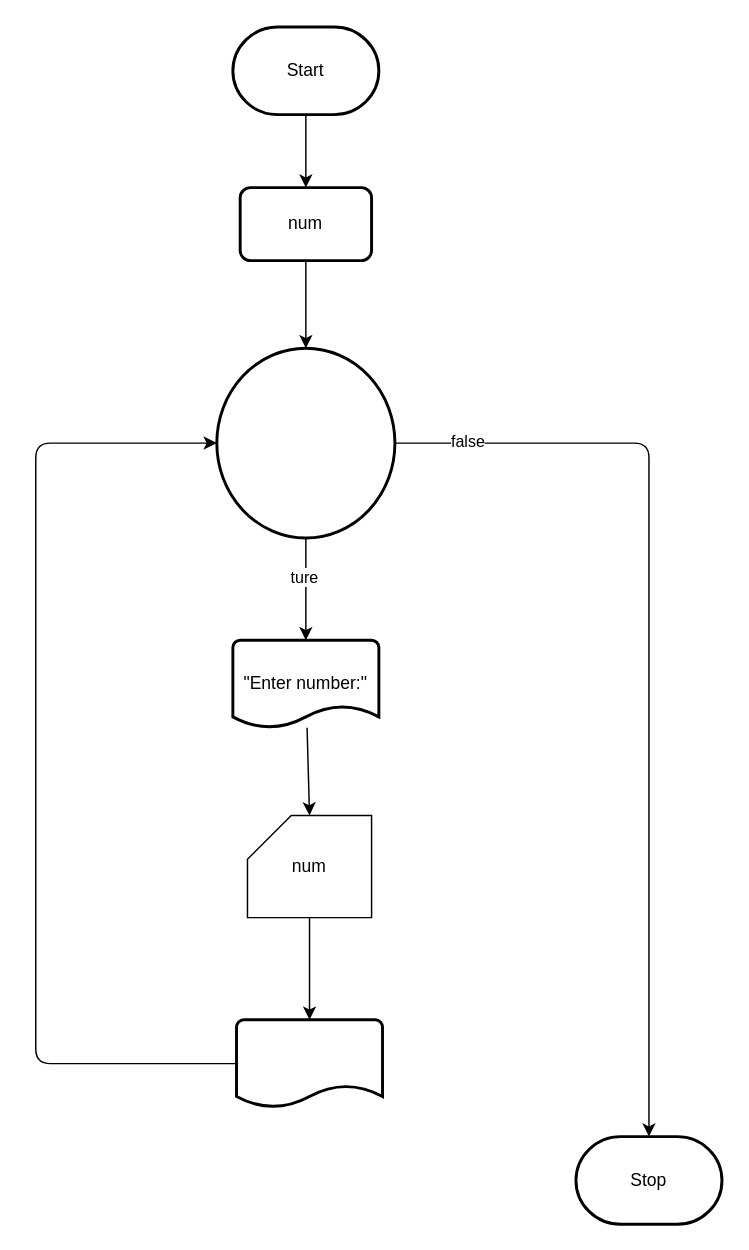
The diagram is 749 pixels wide and 1250 high, and some of its shapes have lost their labels. The shapes that lost their labels are listed below. From the top down, each one's centre as x and y in pixels, then its label:
At pixel 305 442: "for i = 1; i <= 10; i = i + 1".
At pixel 308 1063: "num ** 2".
